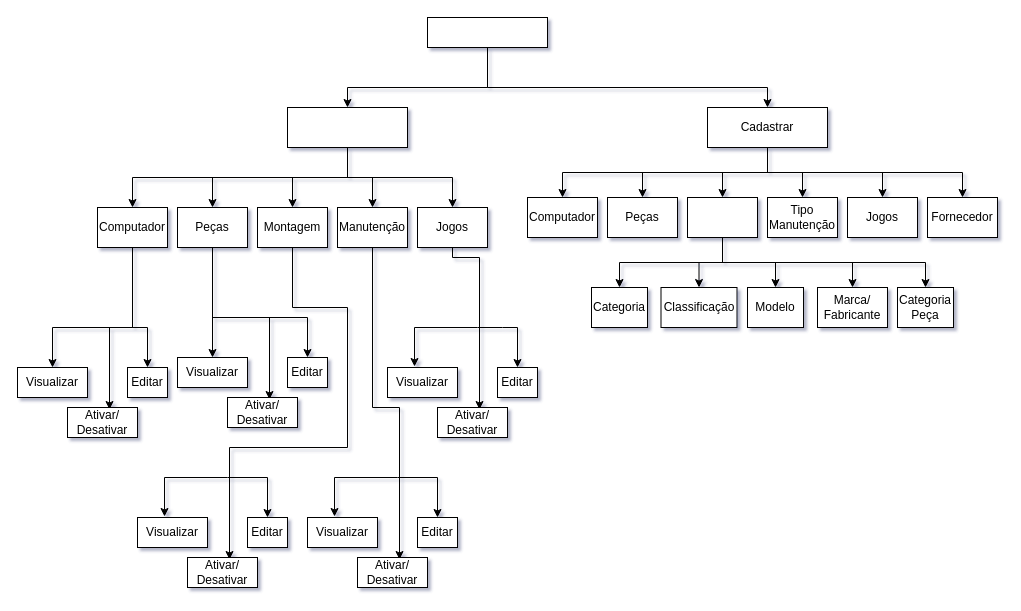
Image size: 1021x611. Some labels were removed from this diagram. Here are the shapes that lost their labels. From the top down, the centre of each, then its label:
point (487, 32): Login
point (347, 127): Listar
point (722, 217): Cadastros
